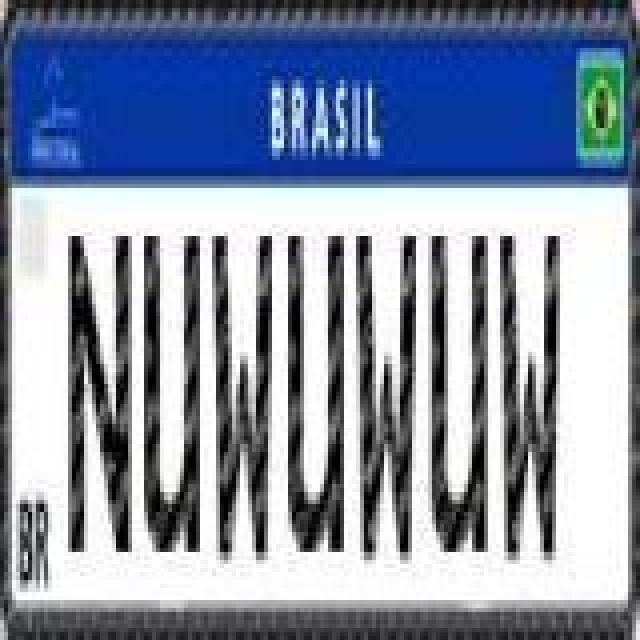N: (66, 224, 134, 560)
U: (142, 230, 202, 554), (286, 230, 346, 554), (426, 230, 486, 554)
W: (208, 232, 272, 568), (352, 232, 416, 568), (496, 232, 560, 568)
